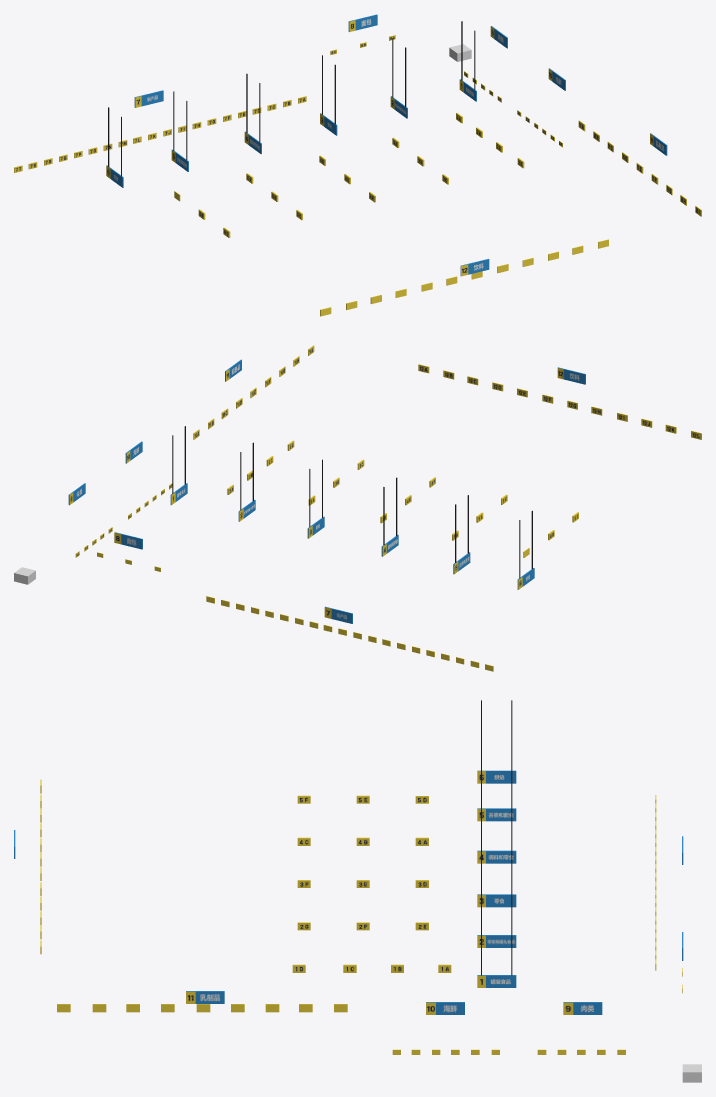
The model's file is yindaopai.FBX.
3 views of the same model, one above another, from view 1: azimuth 30°, elevation 25°; view 2: azimuth 150°, elevation 25°; view 3: azimuth 270°, elevation 25° (orthographic). The views are drawn at different scales.
Visible parts, largest first — view 1: no part large enough to name; view 2: no part large enough to name; view 3: yindaopai1, yindaopai4, yindaopai5, yindaopai3, yindaopai6, yindaopai2.
Part boxes in pixels (x1,y1,x2,y2): yindaopai1: [477, 905, 516, 987]; yindaopai4: [477, 780, 516, 863]; yindaopai5: [477, 738, 516, 821]; yindaopai3: [477, 824, 516, 907]; yindaopai6: [477, 700, 516, 783]; yindaopai2: [477, 865, 516, 947].
Size of the model in its own units: 3331 by 746 by 3570.
